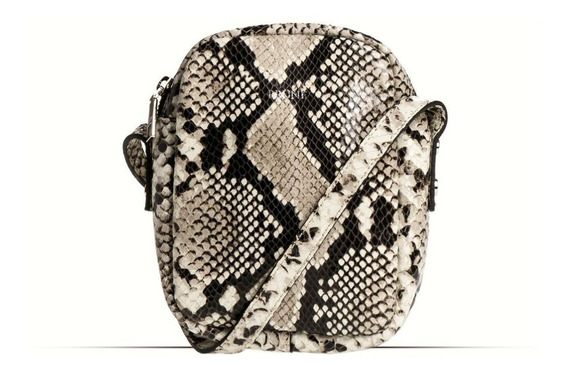cartera: (122, 20, 449, 355)
